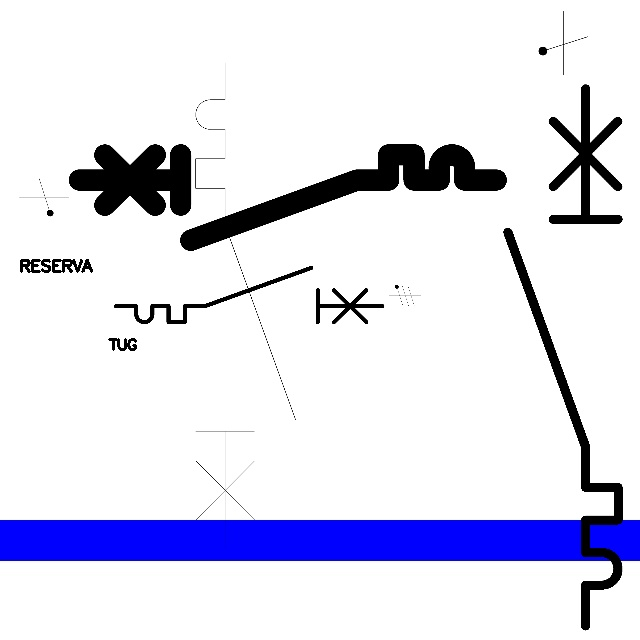interruptor_termomagnetico: (494, 74, 632, 639), (183, 50, 308, 562), (68, 144, 506, 251), (109, 261, 389, 329)
